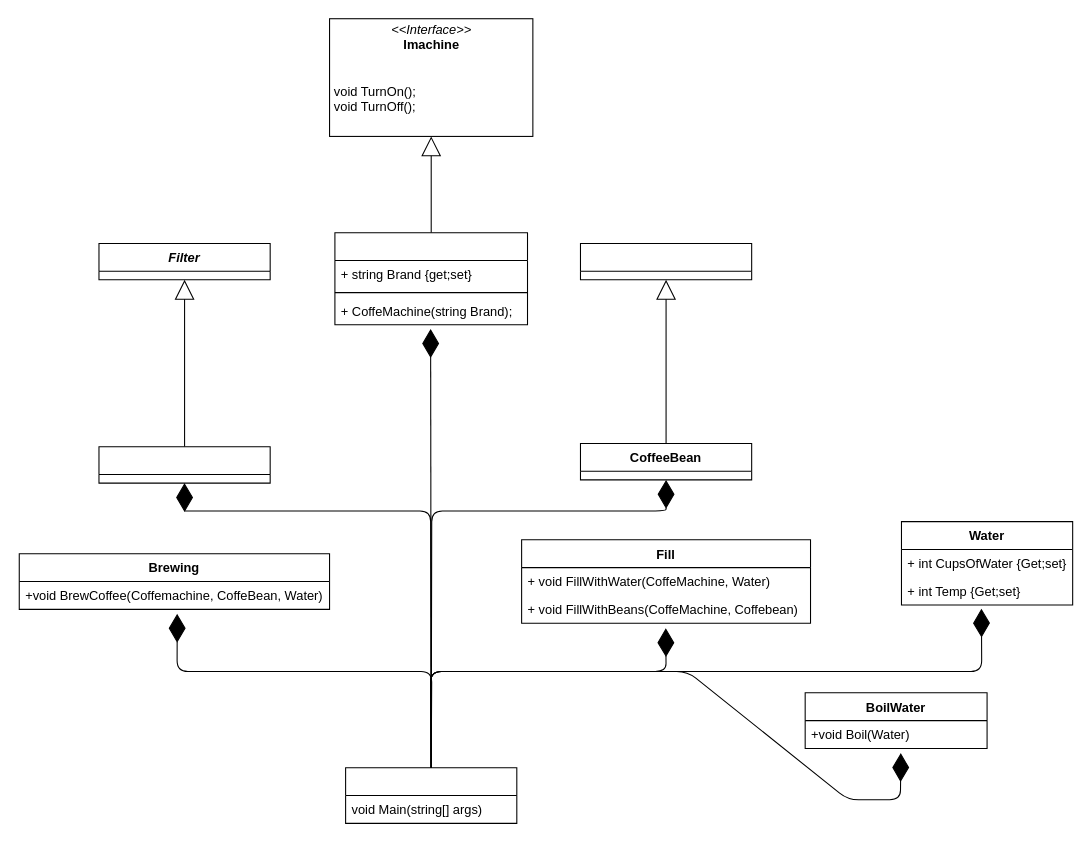
This 1091x846 diagram has some shape labels left out. Each missing label, with the box of its shape:
Bean: (579, 242, 752, 280)
CoffeeFilter: (98, 446, 270, 483)
CoffeeMachine: (334, 232, 528, 325)
Program: (345, 767, 517, 823)
